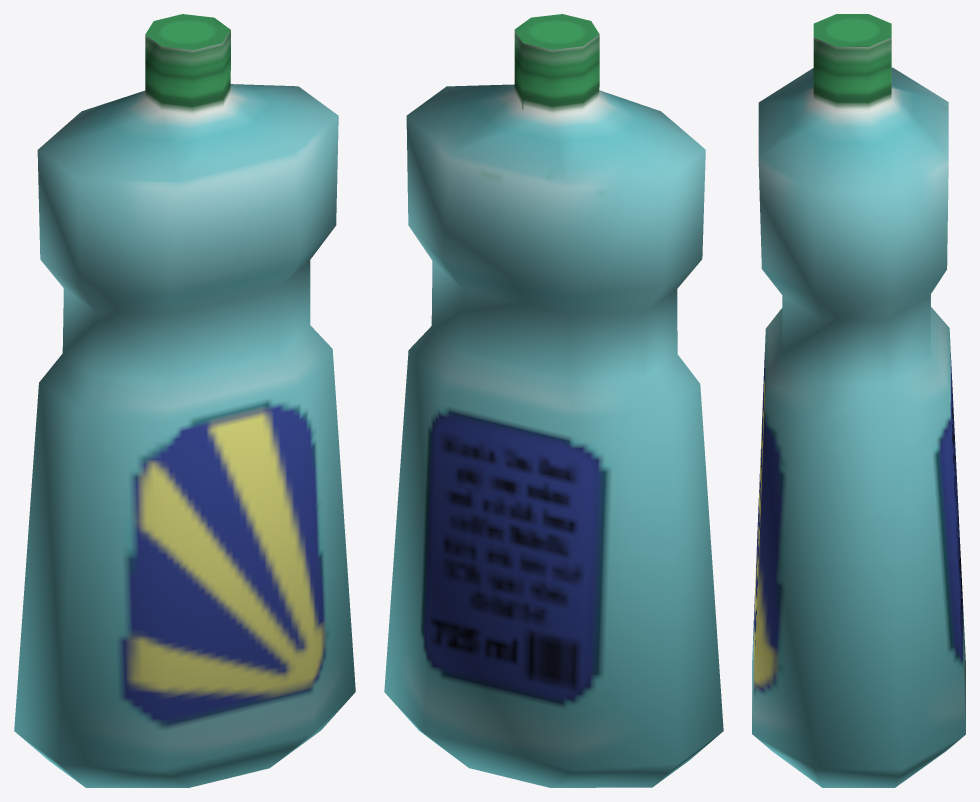
File: CleaningLiquidBottleWaterSM.fbx
3 views of the same model, side by side, from view 1: azimuth 30°, elevation 25°; view 2: azimuth 150°, elevation 25°; view 3: azimuth 270°, elevation 25° (orthographic). The views are drawn at different scales.
Parts seen in each view (by area): view 1: CleaningLiquid001; view 2: CleaningLiquid001; view 3: CleaningLiquid001.
Boxes of the visible parts, x1,y1,x2,y2 form: CleaningLiquid001: (14, 14, 355, 787); CleaningLiquid001: (384, 14, 723, 787); CleaningLiquid001: (752, 14, 965, 787).
Size of the model in its own units: 10.84 by 25.03 by 6.92.
